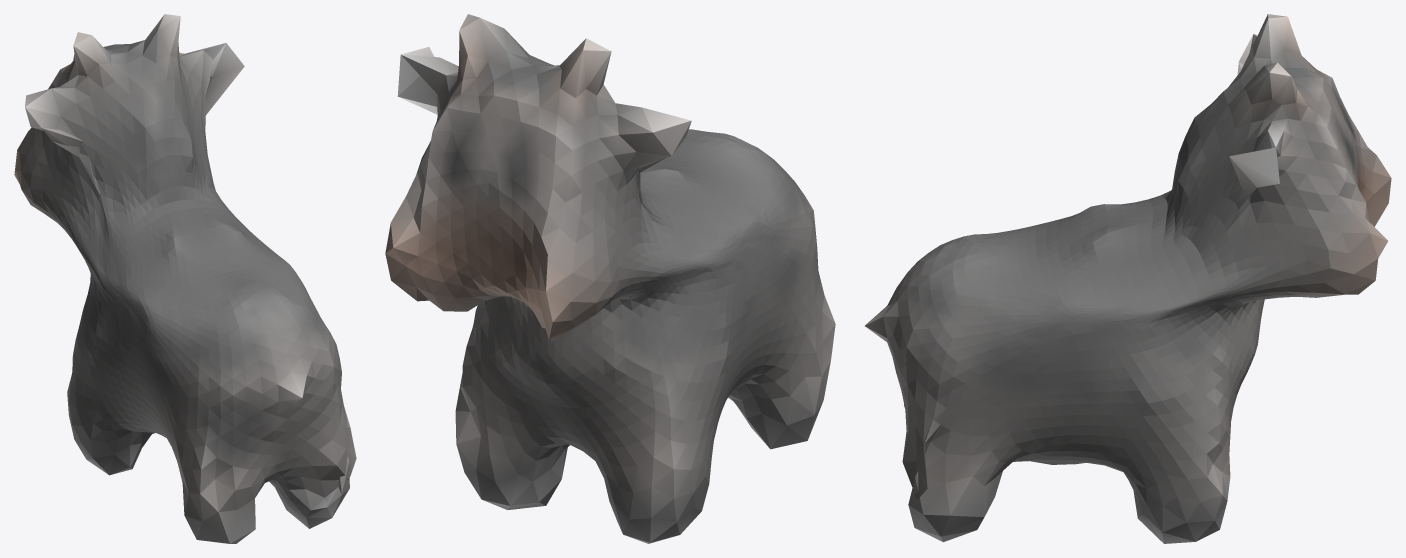
File: colored_mesh_iter_0700.obj
3 views of the same model, side by side, from view 1: azimuth 30°, elevation 25°; view 2: azimuth 150°, elevation 25°; view 3: azimuth 270°, elevation 25° (orthographic). The views are drawn at different scales.
Bounding box in the file's own units: 1.07 × 1.99 × 1.98.
